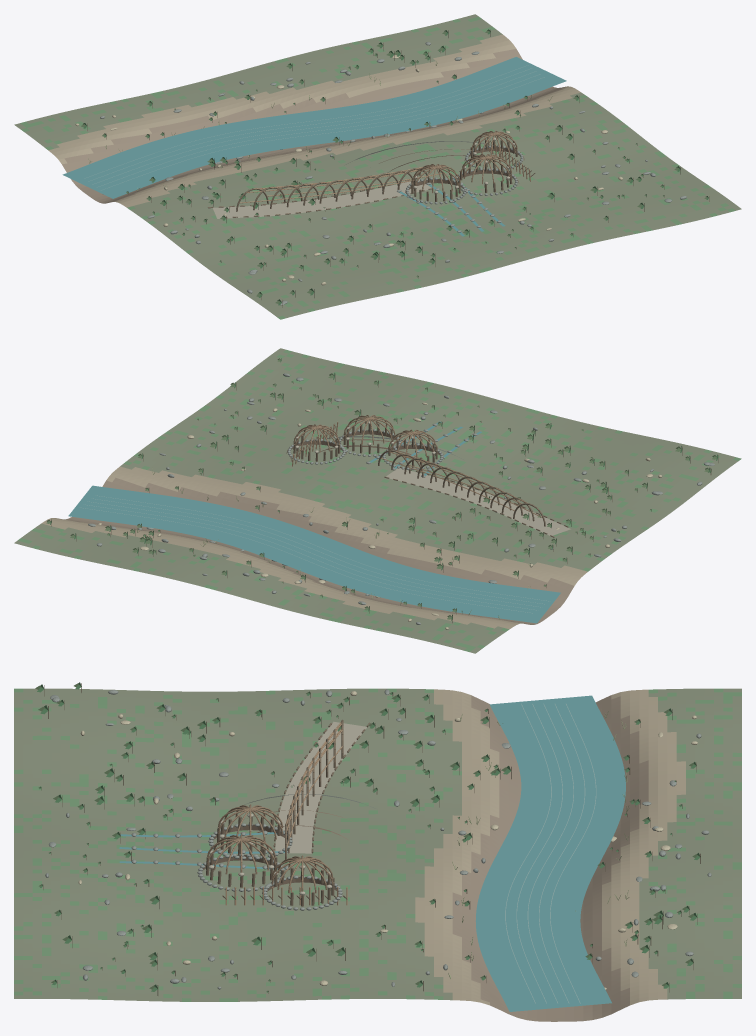
File: ALC_M3_NURSERY_CIRCULATION_v001.glb
3 views of the same model, one above another, from view 1: azimuth 30°, elevation 25°; view 2: azimuth 150°, elevation 25°; view 3: azimuth 270°, elevation 25° (orthographic). The views are drawn at different scales.
Parts seen in each view (by area): view 1: loam, water, moss, sand, silt, root, wetstone, limestone, fern, wood, waterline, broadleaf (+2 smaller); view 2: loam, water, moss, sand, silt, root, wetstone, limestone, broadleaf, wood, waterline, fern (+2 smaller); view 3: loam, water, moss, sand, silt, root, wetstone, limestone, fern, wood, broadleaf, waterline (+3 smaller).
Boxes of the visible parts, bbox=[...] form: loam: bbox=[14, 14, 741, 317]; water: bbox=[62, 57, 566, 236]; moss: bbox=[20, 16, 735, 319]; sand: bbox=[48, 34, 580, 207]; silt: bbox=[62, 49, 565, 203]; root: bbox=[87, 30, 709, 307]; wetstone: bbox=[100, 42, 686, 305]; limestone: bbox=[213, 137, 515, 218]; fern: bbox=[83, 29, 708, 305]; wood: bbox=[411, 131, 517, 193]; waterline: bbox=[84, 65, 544, 190]; broadleaf: bbox=[81, 30, 707, 303]; loam: bbox=[14, 348, 738, 653]; water: bbox=[68, 421, 560, 623]; moss: bbox=[18, 350, 741, 651]; sand: bbox=[41, 466, 587, 629]; silt: bbox=[64, 477, 574, 624]; root: bbox=[51, 373, 718, 622]; wetstone: bbox=[88, 373, 714, 624]; limestone: bbox=[295, 421, 570, 535]; broadleaf: bbox=[46, 358, 716, 619]; wood: bbox=[293, 415, 437, 458]; waterline: bbox=[80, 495, 548, 613]; fern: bbox=[50, 358, 717, 620]; loam: bbox=[14, 688, 741, 1001]; water: bbox=[119, 695, 625, 1011]; moss: bbox=[14, 688, 741, 1001]; sand: bbox=[415, 689, 685, 1005]; silt: bbox=[452, 695, 648, 1021]; root: bbox=[41, 683, 700, 995]; wetstone: bbox=[45, 689, 711, 989]; limestone: bbox=[208, 721, 366, 895]; fern: bbox=[37, 682, 700, 992]; wood: bbox=[207, 804, 333, 893]; broadleaf: bbox=[35, 683, 699, 991]; waterline: bbox=[505, 703, 596, 1003].
Bounding box in the file's own units: 82.3 × 8.42 × 80.
